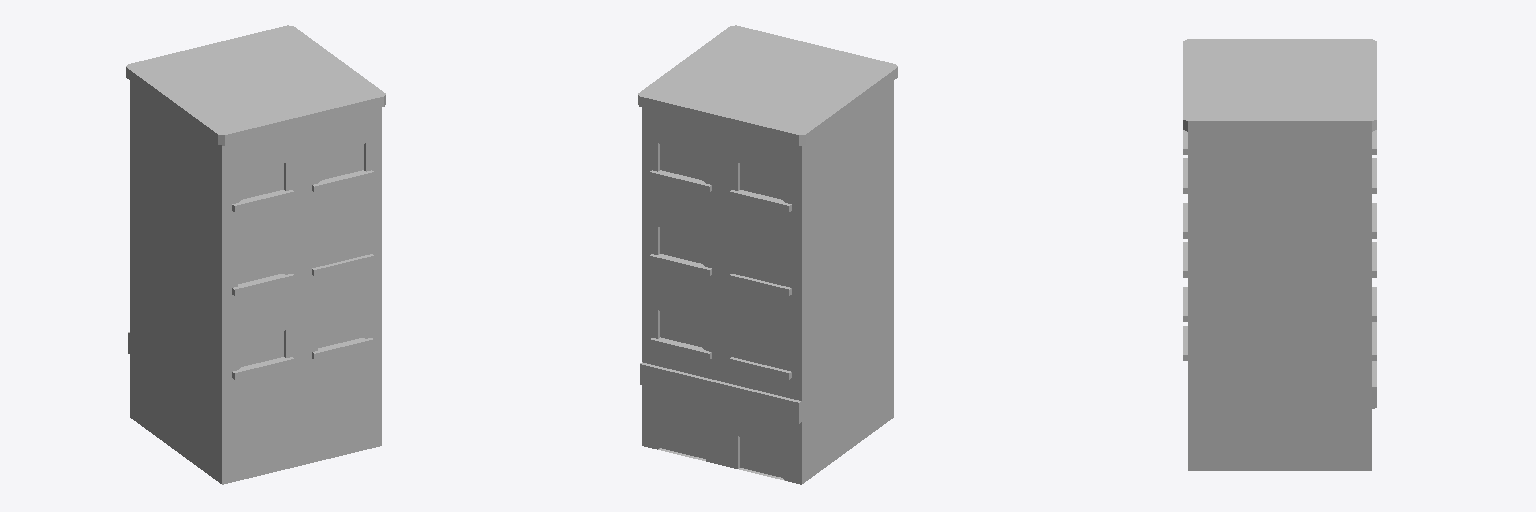
File: buildingTest.obj
The picture shows the model from 3 angles: view 1: azimuth 30°, elevation 25°; view 2: azimuth 150°, elevation 25°; view 3: azimuth 270°, elevation 25°; orthographic projection.
Parts seen in each view (by area): view 1: large_buildingB; view 2: large_buildingB; view 3: large_buildingB.
Boxes of the visible parts, box(x1,y1,x2,y2) form: large_buildingB: box(126, 25, 385, 484); large_buildingB: box(638, 25, 897, 484); large_buildingB: box(1183, 39, 1376, 470).
Bounding box in the file's own units: 0.84 × 1.68 × 0.84.